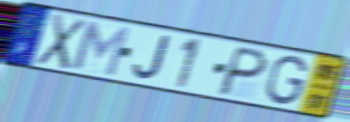1: (175, 36, 204, 90)
G: (264, 54, 309, 106)
J: (131, 34, 173, 82)
M: (70, 18, 133, 79)
P: (214, 44, 271, 98)
X: (34, 11, 89, 72)
